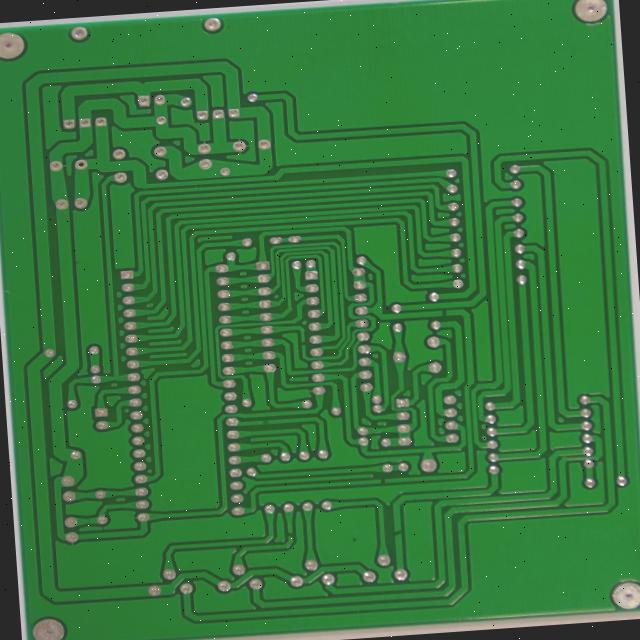open_circuit: (348, 518, 363, 531), (223, 520, 237, 533), (401, 277, 416, 287), (330, 462, 345, 472), (240, 310, 252, 322)
